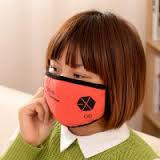OK: (46, 51, 107, 122)
